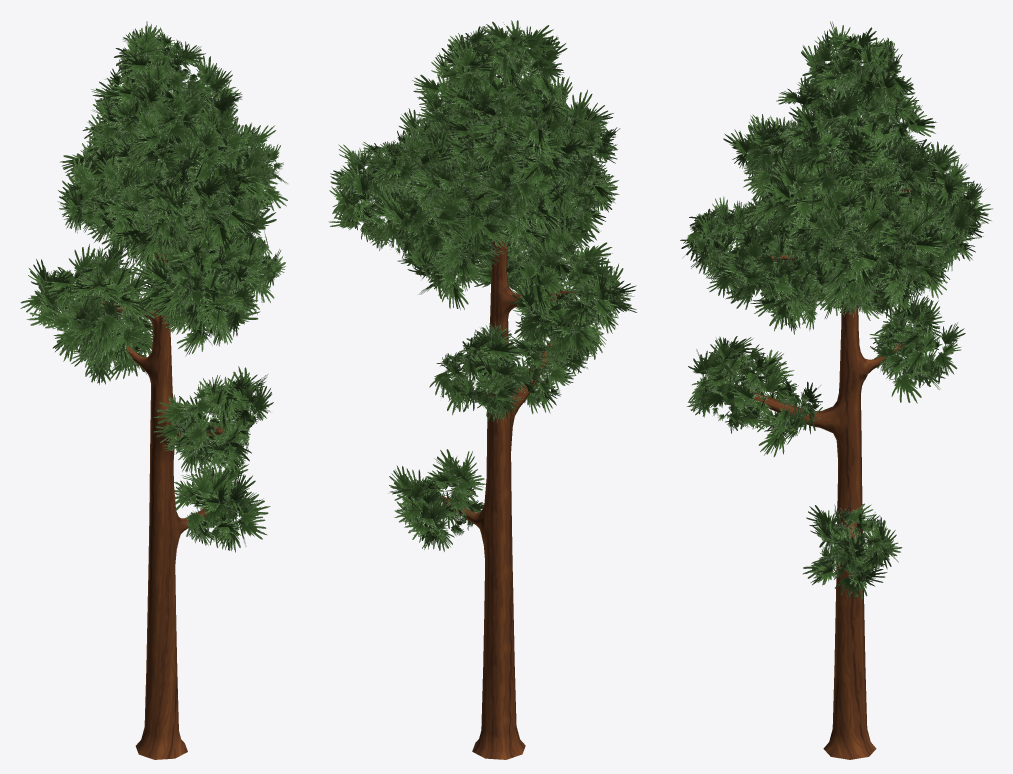
Rendered from Pinetree.fbx.
3 views of the same model, side by side, from view 1: azimuth 30°, elevation 25°; view 2: azimuth 150°, elevation 25°; view 3: azimuth 270°, elevation 25° (orthographic). The views are drawn at different scales.
Parts seen in each view (by area): view 1: Plane; view 2: Plane; view 3: Plane.
Part boxes in pixels (bbox=[...]): Plane: bbox=[20, 21, 287, 759]; Plane: bbox=[328, 20, 636, 759]; Plane: bbox=[680, 21, 993, 759].
Bounding box in the file's own units: 638 × 1562 × 638.
